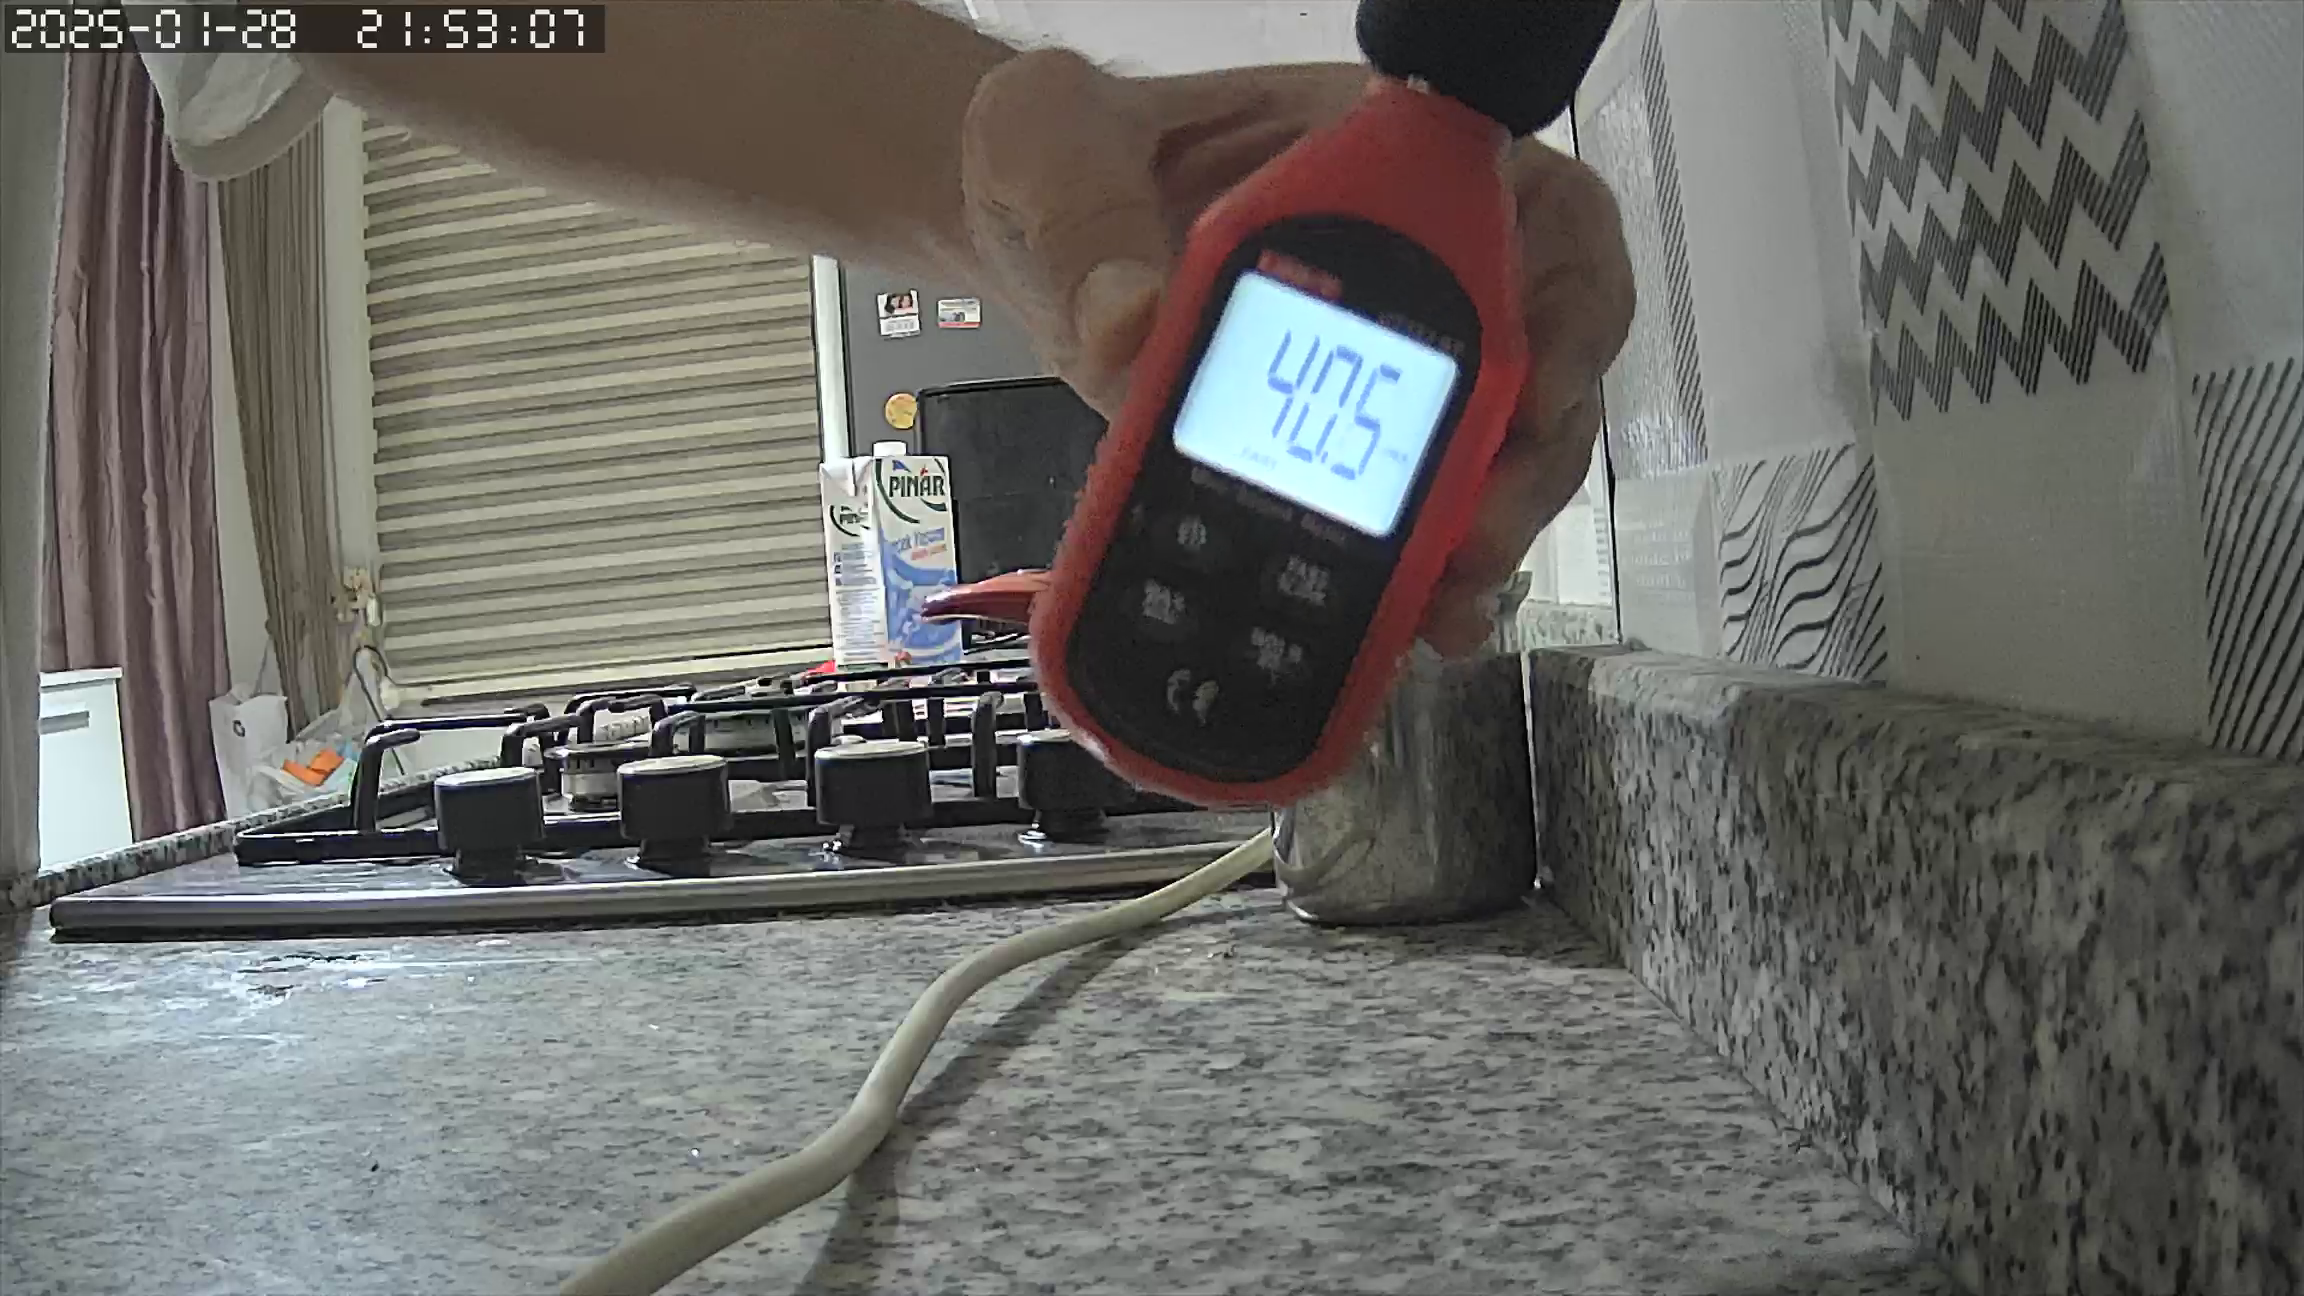screen: (1174, 271, 1456, 543)
